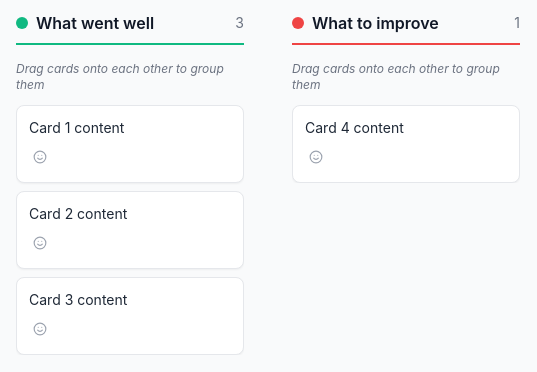
Test: GroupStage › Reactions › opens emoji picker when add reaction clicked
The width and height of the screenshot is (537, 372).
Click the button titled "Add reaction" below "Card 1 content" at [40, 157], box [29, 146, 51, 168]
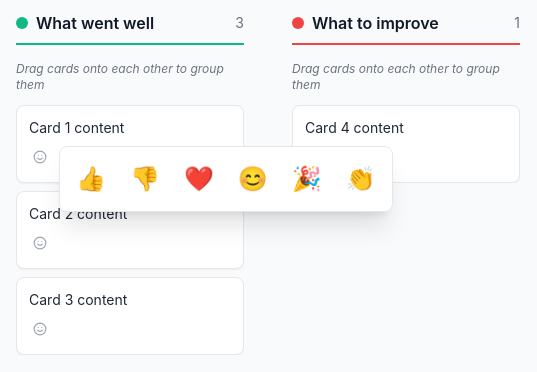
Expected: the button "👍" is shown, [68, 155, 114, 203]
Expected: the button "👎" is shown, [122, 155, 168, 203]
